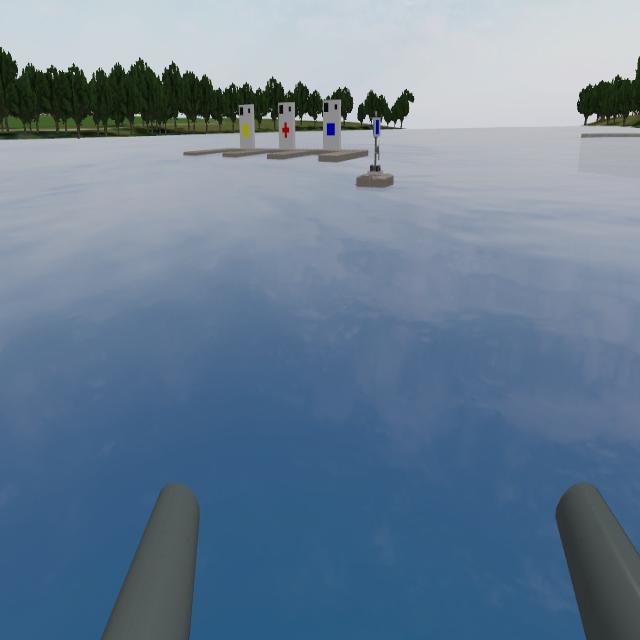blue_pole: (369, 109, 386, 153)
